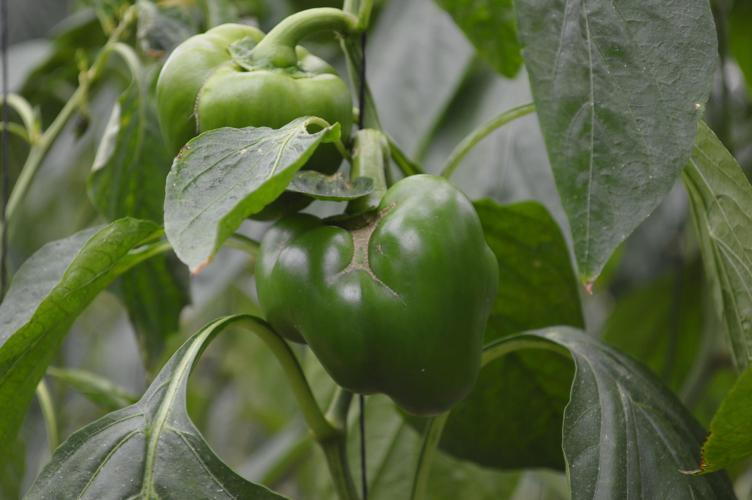BellPepper: (254, 176, 502, 416), (157, 22, 354, 207)
